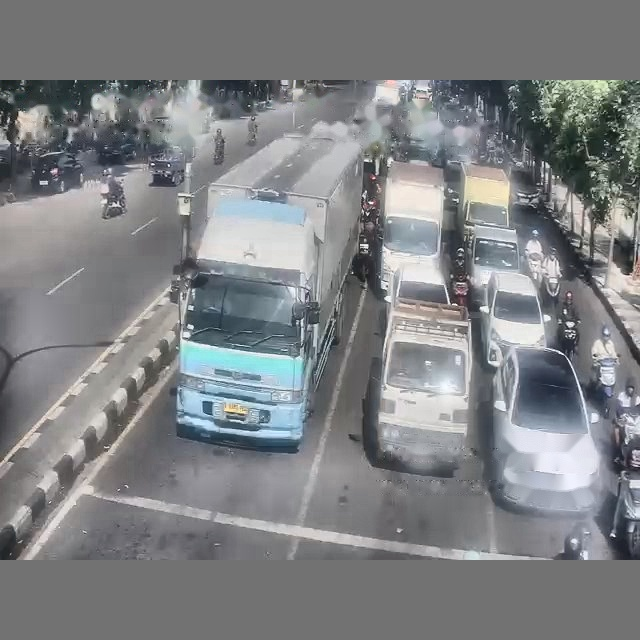Mobil: (492, 347, 599, 512), (480, 273, 550, 366), (382, 263, 450, 330), (467, 225, 520, 304), (385, 263, 450, 307), (31, 152, 83, 192), (97, 139, 136, 164)
Motor: (595, 356, 618, 418), (614, 407, 639, 460), (558, 319, 579, 359), (542, 272, 559, 306), (101, 194, 124, 218), (526, 252, 542, 286), (452, 274, 468, 306), (214, 143, 223, 164), (247, 131, 256, 145)
Truk: (176, 123, 362, 451), (363, 298, 471, 474), (378, 161, 444, 292), (458, 164, 510, 246)
